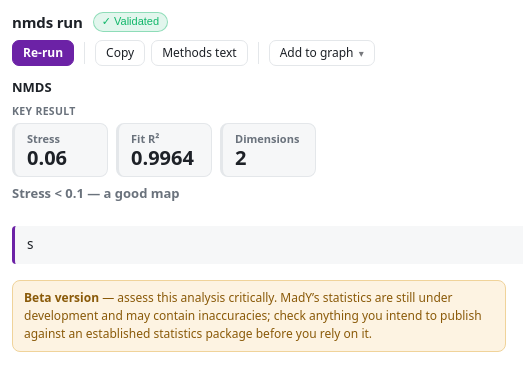
the analysis pane offers the right door › an NMDS result offers NMDS graphs, named for the method that produced them
This screenshot has width=523, height=369.
Step 1. Click the button "Add to graph ▾" → (322, 53), box [269,40,375,66]
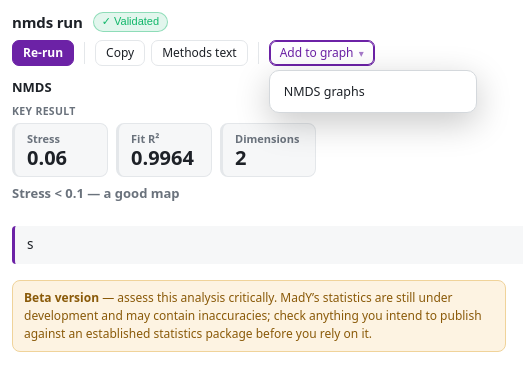
Check: the menu item "NMDS graphs" is shown, box [275,76,471,107]
